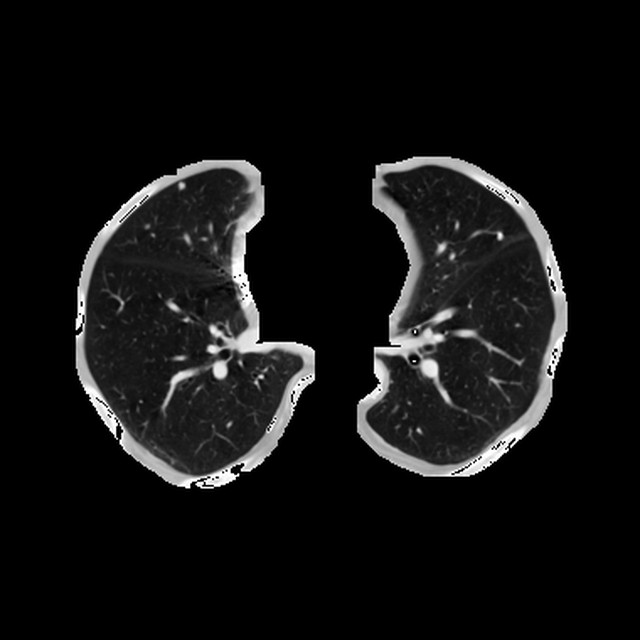PN: (497, 232, 504, 239)
